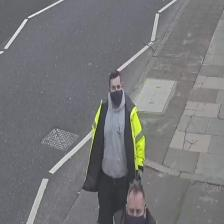person: (82, 70, 145, 224), (109, 180, 157, 224)
